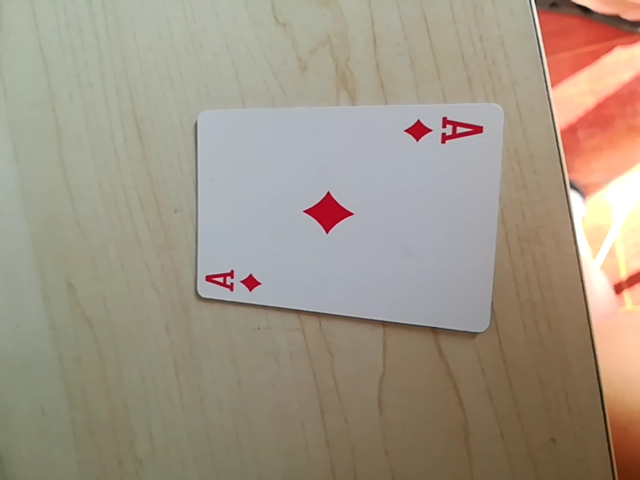fk a: (400, 114, 485, 150), (199, 264, 268, 296)
